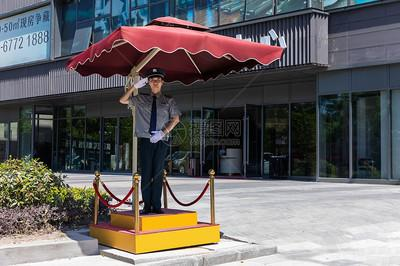up: (118, 64, 180, 217)
